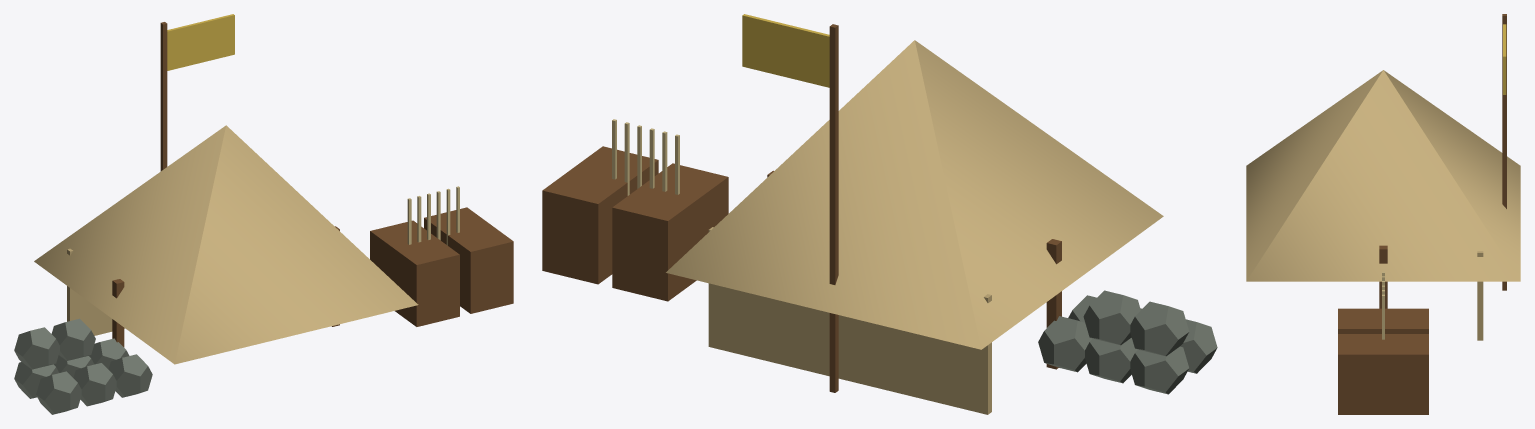
The model's file is camp_3.glb.
3 views of the same model, side by side, from view 1: azimuth 30°, elevation 25°; view 2: azimuth 150°, elevation 25°; view 3: azimuth 270°, elevation 25° (orthographic). The views are drawn at different scales.
Visible parts, largest first — view 1: part_0, part_4, part_5, part_21, part_15, part_18, part_16, part_17, part_19, part_3, part_20, part_12 (+2 smaller); view 2: part_0, part_3, part_4, part_5, part_21, part_20, part_18, part_19, part_14, part_12, part_13, part_15 (+1 smaller); view 3: part_0, part_5, part_4, part_20, part_3, part_2, part_21.
Boxes of the visible parts, x1,y1,x2,y2 form: part_0: (34, 125, 418, 364); part_4: (370, 220, 459, 326); part_5: (424, 207, 513, 313); part_21: (167, 14, 234, 70); part_15: (36, 371, 81, 414); part_18: (14, 327, 59, 369); part_16: (73, 363, 116, 406); part_17: (108, 354, 152, 397); part_19: (51, 318, 95, 360); part_3: (67, 248, 124, 335); part_20: (160, 22, 167, 171); part_12: (14, 362, 59, 398); part_0: (666, 40, 1163, 349); part_3: (708, 227, 991, 414); part_4: (612, 163, 728, 301); part_5: (542, 146, 658, 284); part_21: (742, 14, 829, 87); part_20: (829, 24, 838, 392); part_18: (1130, 301, 1189, 356); part_19: (1083, 290, 1140, 345); part_14: (1038, 316, 1092, 372); part_12: (1130, 346, 1189, 394); part_13: (1085, 338, 1137, 383); part_15: (1180, 319, 1217, 373); part_0: (1246, 70, 1520, 281); part_5: (1338, 334, 1428, 414); part_4: (1338, 308, 1428, 333); part_20: (1502, 14, 1506, 290); part_3: (1477, 251, 1483, 340); part_2: (1379, 245, 1387, 308); part_21: (1503, 24, 1506, 94).
Size of the model in its own units: 8.75 by 5 by 4.53.
